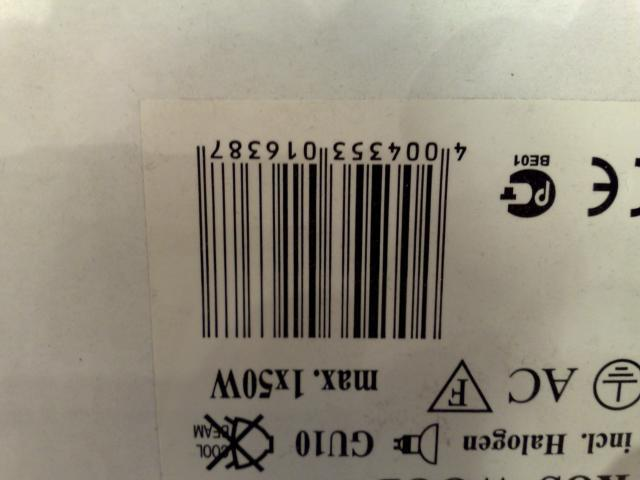Barcode: (176, 123, 483, 354)
